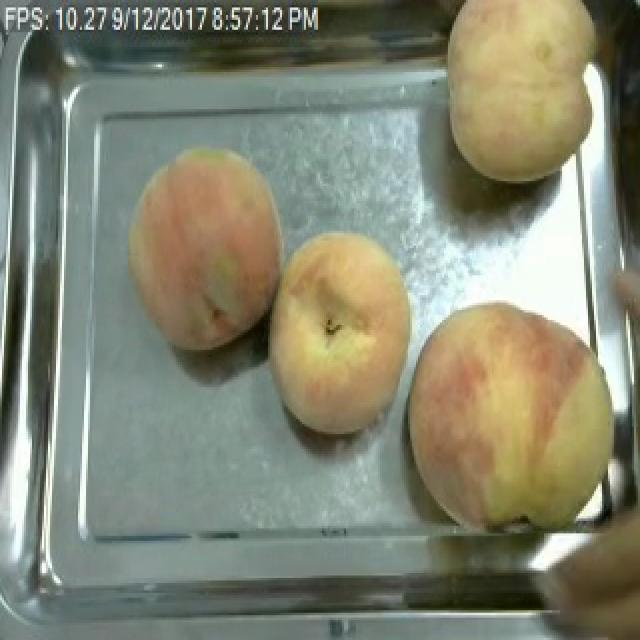Fruit: (396, 293, 638, 536), (118, 141, 294, 360), (258, 223, 424, 442), (432, 0, 614, 193)
